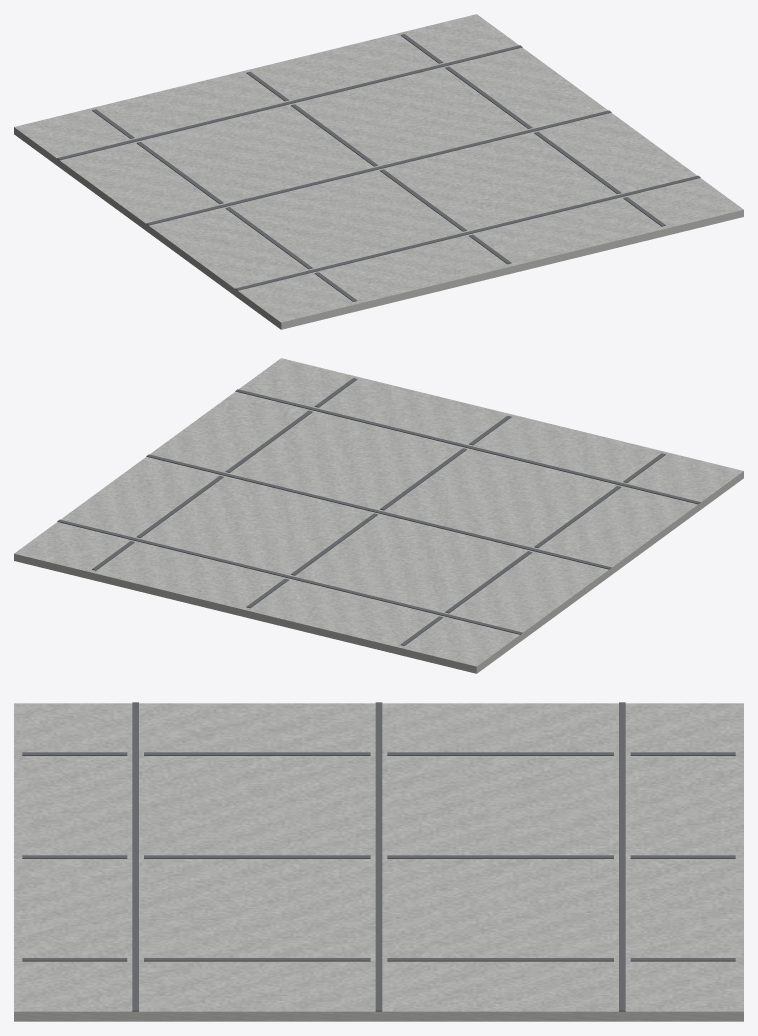
Rendered from bus-station-and-city-transit-concrete-apron-tile-1e4e2fb9__34201.glb.
3 views of the same model, one above another, from view 1: azimuth 30°, elevation 25°; view 2: azimuth 150°, elevation 25°; view 3: azimuth 270°, elevation 25° (orthographic). The views are drawn at different scales.
Visible parts, largest first — view 1: concrete-apron-tile-concrete, concrete-apron-tile-charcoal; view 2: concrete-apron-tile-concrete, concrete-apron-tile-charcoal; view 3: concrete-apron-tile-concrete, concrete-apron-tile-charcoal.
Part boxes in pixels (x1,y1,x2,y2): concrete-apron-tile-concrete: (14,14,743,329); concrete-apron-tile-charcoal: (57,34,700,301); concrete-apron-tile-concrete: (14,358,743,673); concrete-apron-tile-charcoal: (57,378,700,645); concrete-apron-tile-concrete: (14,703,743,1021); concrete-apron-tile-charcoal: (22,702,735,1011).
Size of the model in its own units: 8 by 0.1319 by 8.
Materials: 2 (1 with a texture image).
